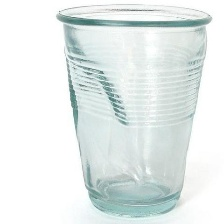glass: (53, 2, 213, 220)
